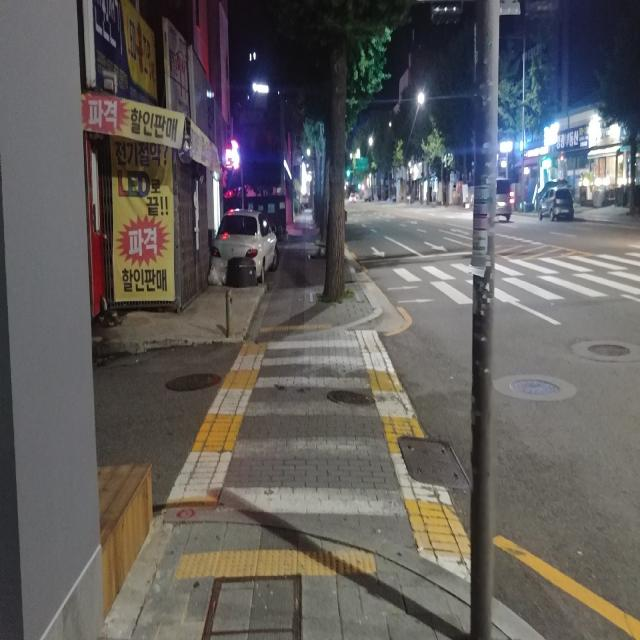횡단보도: (216, 337, 410, 518)
